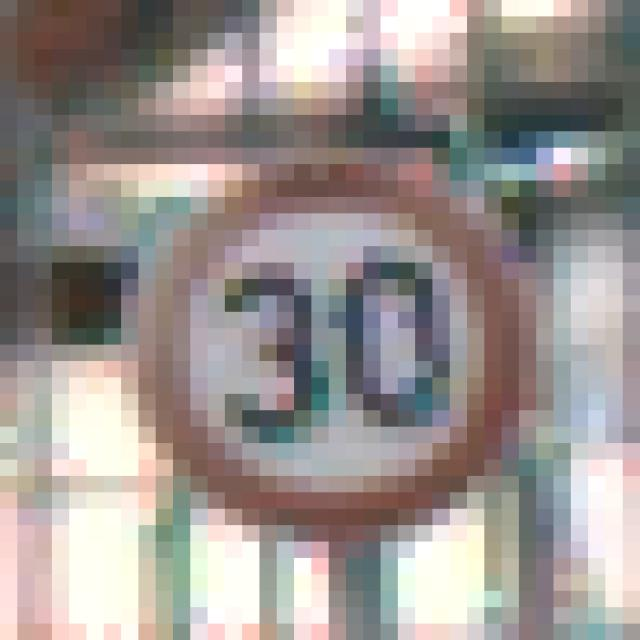Speed Limit -30-: (78, 90, 527, 534)
